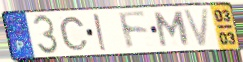3: (31, 13, 60, 57)
C: (58, 15, 90, 52)
F: (116, 11, 151, 52)
I: (92, 12, 109, 53)
M: (154, 10, 191, 49)
V: (181, 7, 212, 49)
